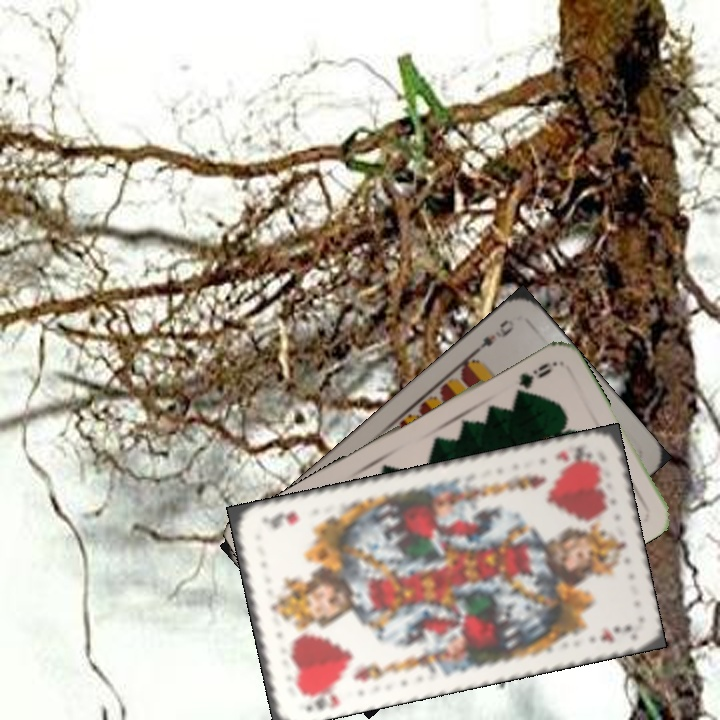E9: (469, 315, 517, 357)
G9: (509, 358, 557, 396)
HK: (296, 687, 342, 713), (551, 440, 595, 466)
